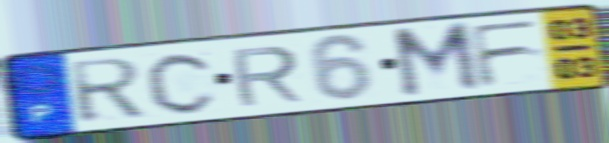6: (306, 31, 380, 105)
C: (143, 50, 220, 116)
F: (466, 16, 546, 90)
M: (388, 19, 485, 101)
R: (65, 55, 149, 126), (227, 43, 306, 109)
